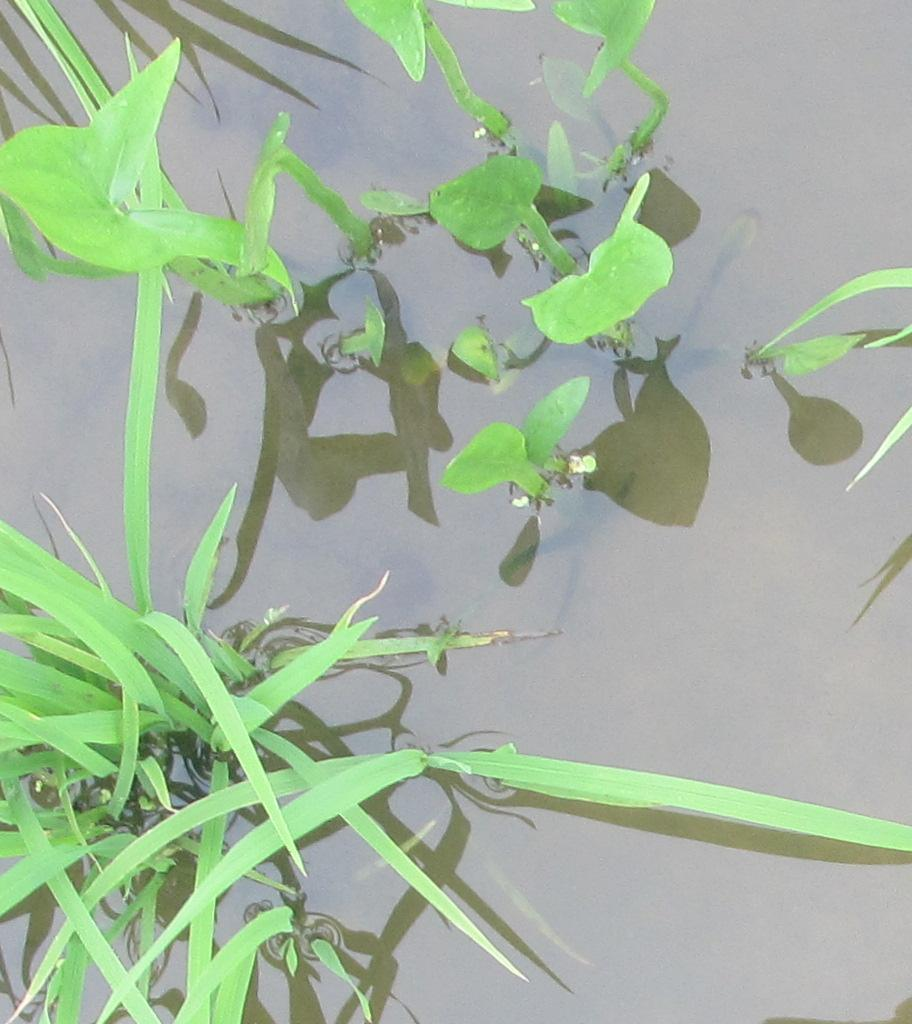Weed: (435, 160, 683, 336), (11, 121, 249, 300), (436, 388, 596, 511)
